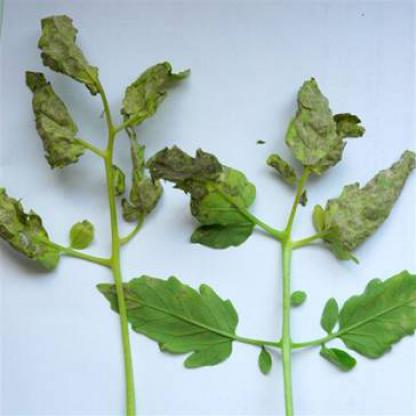Tomato mold leaf: (95, 273, 242, 376), (146, 141, 257, 251), (310, 148, 414, 264), (275, 65, 344, 174), (331, 265, 415, 354)
